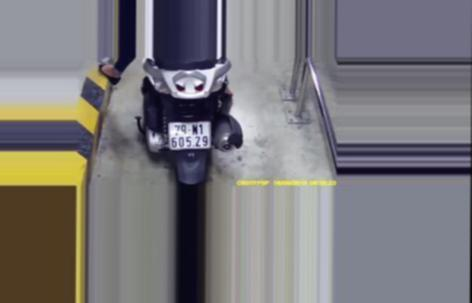License_Plate: (164, 120, 213, 152)
